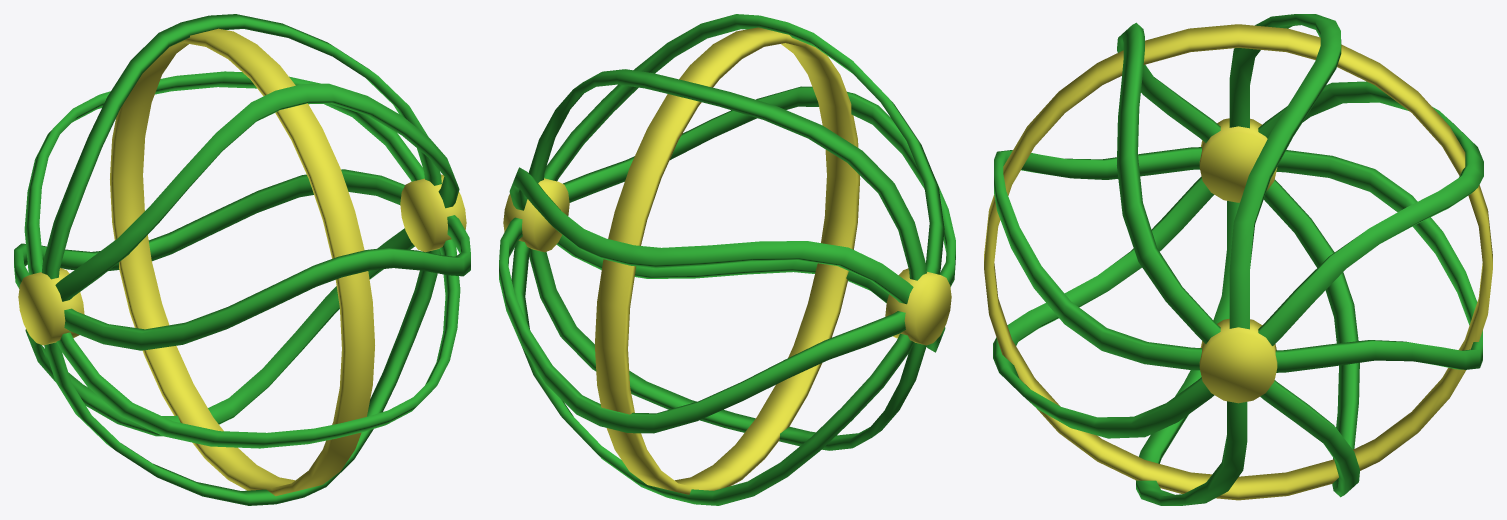
Rendered from vine_ball.glb.
The picture shows the model from 3 angles, left to right: view 1: azimuth 30°, elevation 25°; view 2: azimuth 150°, elevation 25°; view 3: azimuth 270°, elevation 25°; orthographic projection. The views are drawn at different scales.
Parts seen in each view (by area): view 1: Vine Ball; view 2: Vine Ball; view 3: Vine Ball.
Part boxes in pixels (box(x1,y1,x2,y2)): Vine Ball: box(14, 14, 470, 505); Vine Ball: box(499, 14, 955, 505); Vine Ball: box(984, 14, 1492, 505).
Size of the model in its own units: 0.9803 by 0.9745 by 0.9745.
Materials: 1 (1 with a texture image).
